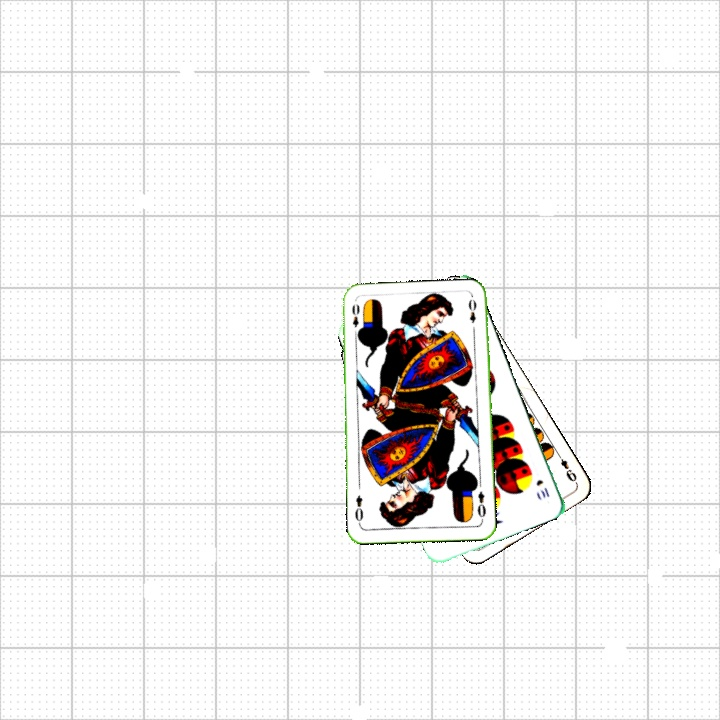E9: (553, 449, 579, 484)
EO: (348, 300, 364, 339), (473, 487, 489, 523)
S10: (532, 475, 552, 501)
